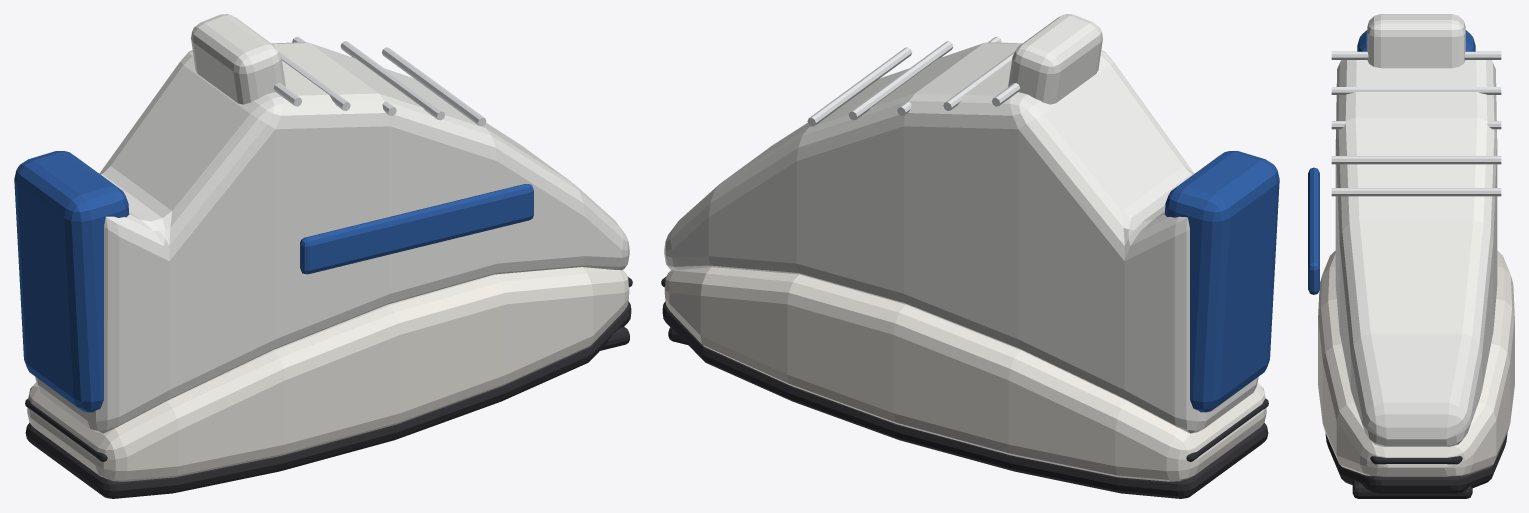
The model's file is nike-vaporfly-next-study.glb.
The picture shows the model from 3 angles, left to right: view 1: azimuth 30°, elevation 25°; view 2: azimuth 150°, elevation 25°; view 3: azimuth 270°, elevation 25°; orthographic projection. The views are drawn at different scales.
Visible parts, largest first — view 1: nike-vaporfly-next-study_UPPER, nike-vaporfly-next-study_MIDSOLE, nike-vaporfly-next-study_HEEL_COUNTER, nike-vaporfly-next-study_OUTSOLE, nike-vaporfly-next-study_MUSEUM_ID_PANEL, nike-vaporfly-next-study_TONGUE, nike-vaporfly-next-study; view 2: nike-vaporfly-next-study_UPPER, nike-vaporfly-next-study_MIDSOLE, nike-vaporfly-next-study_HEEL_COUNTER, nike-vaporfly-next-study_OUTSOLE, nike-vaporfly-next-study_TONGUE, nike-vaporfly-next-study; view 3: nike-vaporfly-next-study_UPPER, nike-vaporfly-next-study_MIDSOLE, nike-vaporfly-next-study, nike-vaporfly-next-study_TONGUE, nike-vaporfly-next-study_OUTSOLE, nike-vaporfly-next-study_MUSEUM_ID_PANEL, nike-vaporfly-next-study_CARBON_FLYPLATE, nike-vaporfly-next-study_HEEL_COUNTER.
Part boxes in pixels (x1,y1,x2,y2): nike-vaporfly-next-study_UPPER: (35, 42, 629, 433); nike-vaporfly-next-study_MIDSOLE: (27, 267, 629, 481); nike-vaporfly-next-study_HEEL_COUNTER: (14, 151, 129, 412); nike-vaporfly-next-study_OUTSOLE: (25, 301, 631, 498); nike-vaporfly-next-study_MUSEUM_ID_PANEL: (300, 184, 533, 274); nike-vaporfly-next-study_TONGUE: (191, 14, 285, 104); nike-vaporfly-next-study: (273, 36, 629, 350); nike-vaporfly-next-study_UPPER: (664, 42, 1258, 433); nike-vaporfly-next-study_MIDSOLE: (664, 267, 1266, 481); nike-vaporfly-next-study_HEEL_COUNTER: (1164, 151, 1279, 412); nike-vaporfly-next-study_OUTSOLE: (662, 301, 1268, 498); nike-vaporfly-next-study_TONGUE: (1008, 14, 1102, 104); nike-vaporfly-next-study: (668, 36, 1020, 344); nike-vaporfly-next-study_UPPER: (1335, 60, 1497, 446); nike-vaporfly-next-study_MIDSOLE: (1318, 251, 1514, 476); nike-vaporfly-next-study: (1331, 51, 1501, 498); nike-vaporfly-next-study_TONGUE: (1367, 14, 1465, 68); nike-vaporfly-next-study_OUTSOLE: (1325, 433, 1507, 493); nike-vaporfly-next-study_MUSEUM_ID_PANEL: (1308, 167, 1319, 294); nike-vaporfly-next-study_CARBON_FLYPLATE: (1370, 456, 1462, 464); nike-vaporfly-next-study_HEEL_COUNTER: (1357, 30, 1475, 51).
Bounding box in the file's own units: 0.2937 × 0.1987 × 0.1049.
